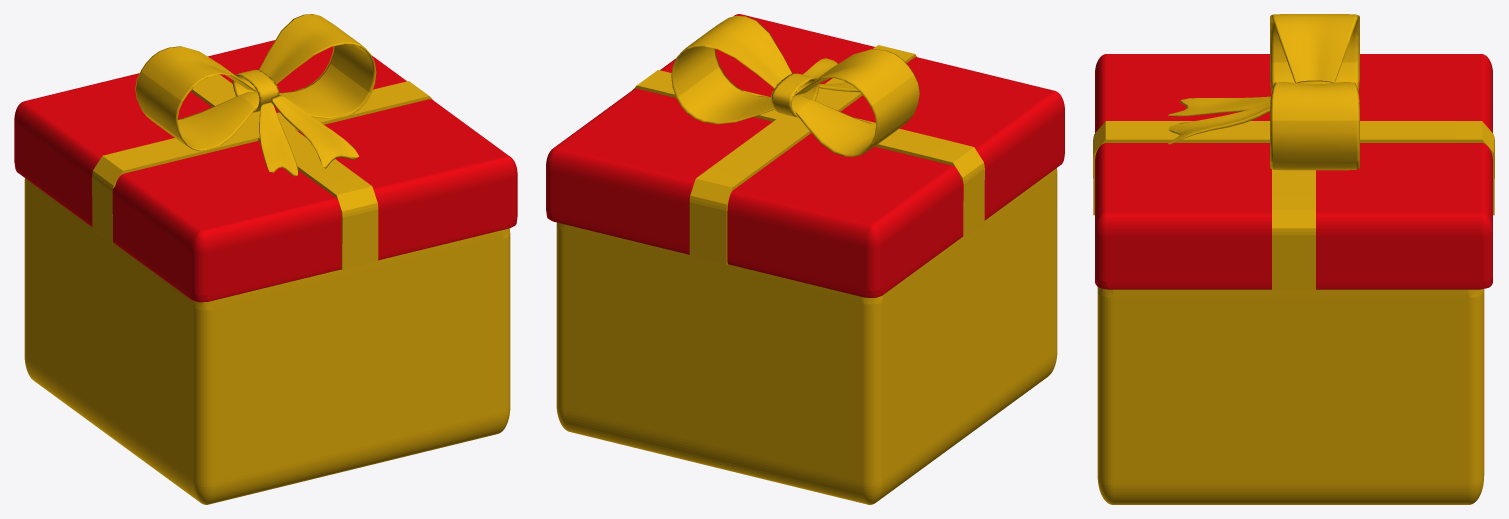
The model's file is YesBox.glb.
3 renders of one model, left to right at view 1: azimuth 30°, elevation 25°; view 2: azimuth 150°, elevation 25°; view 3: azimuth 270°, elevation 25°, orthographic. The views are drawn at different scales.
Visible parts, largest first — view 1: box2, boxTop, bowTop, Plane, Plane001; view 2: box2, boxTop, bowTop, Plane, Plane001; view 3: box2, boxTop, bowTop, Plane, Plane001.
Boxes of the visible parts, x1,y1,x2,y2 form: box2: (24, 178, 510, 504); boxTop: (14, 40, 517, 302); bowTop: (135, 14, 376, 176); Plane: (191, 74, 378, 270); Plane001: (92, 81, 433, 244); box2: (556, 168, 1057, 504); boxTop: (546, 14, 1064, 297); bowTop: (671, 15, 919, 156); Plane: (689, 45, 916, 265); Plane001: (633, 70, 984, 238); box2: (1097, 287, 1484, 504); boxTop: (1095, 54, 1492, 289); bowTop: (1168, 14, 1359, 170); Plane: (1093, 121, 1494, 215); Plane001: (1272, 169, 1315, 290).
Bounding box in the file's own units: 0.7434 × 0.7693 × 0.7433.
